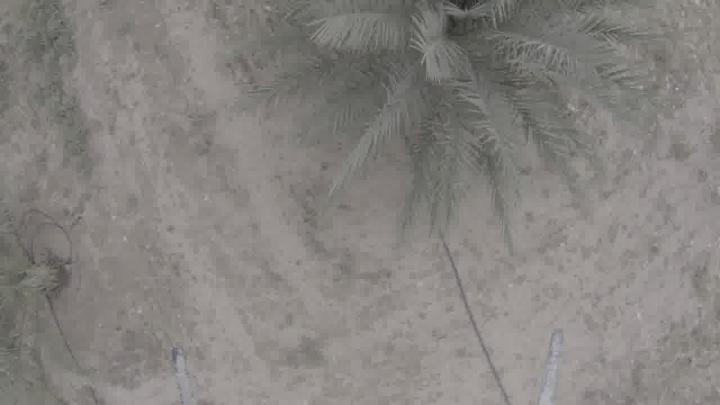Date-Palm-Crown: (320, 0, 600, 150), (0, 244, 34, 404)
